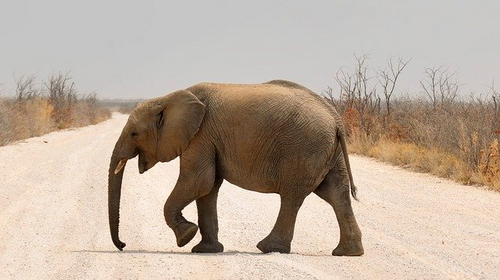elephant: (106, 77, 367, 259)
